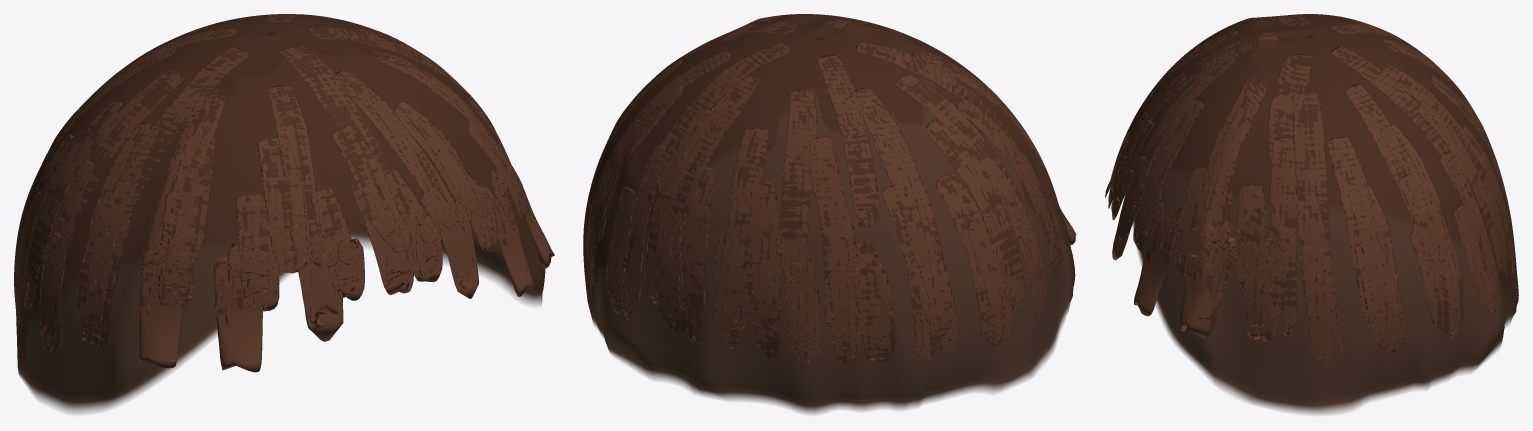
File: Masculine-locs-covered248-hair.glb
3 views of the same model, side by side, from view 1: azimuth 30°, elevation 25°; view 2: azimuth 150°, elevation 25°; view 3: azimuth 270°, elevation 25° (orthographic). The views are drawn at different scales.
Visible parts, largest first — view 1: 226 hair / Hair / loc fiber235, 226 hair / Hair / neutral coverage235.002; view 2: 226 hair / Hair / neutral coverage235.002, 226 hair / Hair / loc fiber235; view 3: 226 hair / Hair / neutral coverage235.002, 226 hair / Hair / loc fiber235.
Boxes of the visible parts, bbox=[...] form: 226 hair / Hair / loc fiber235: bbox=[14, 14, 554, 372]; 226 hair / Hair / neutral coverage235.002: bbox=[14, 14, 545, 413]; 226 hair / Hair / neutral coverage235.002: bbox=[583, 14, 1075, 414]; 226 hair / Hair / loc fiber235: bbox=[583, 15, 1076, 364]; 226 hair / Hair / neutral coverage235.002: bbox=[1128, 14, 1518, 414]; 226 hair / Hair / loc fiber235: bbox=[1105, 14, 1514, 365].
Bounding box in the file's own units: 0.9652 × 0.6194 × 0.8295.
